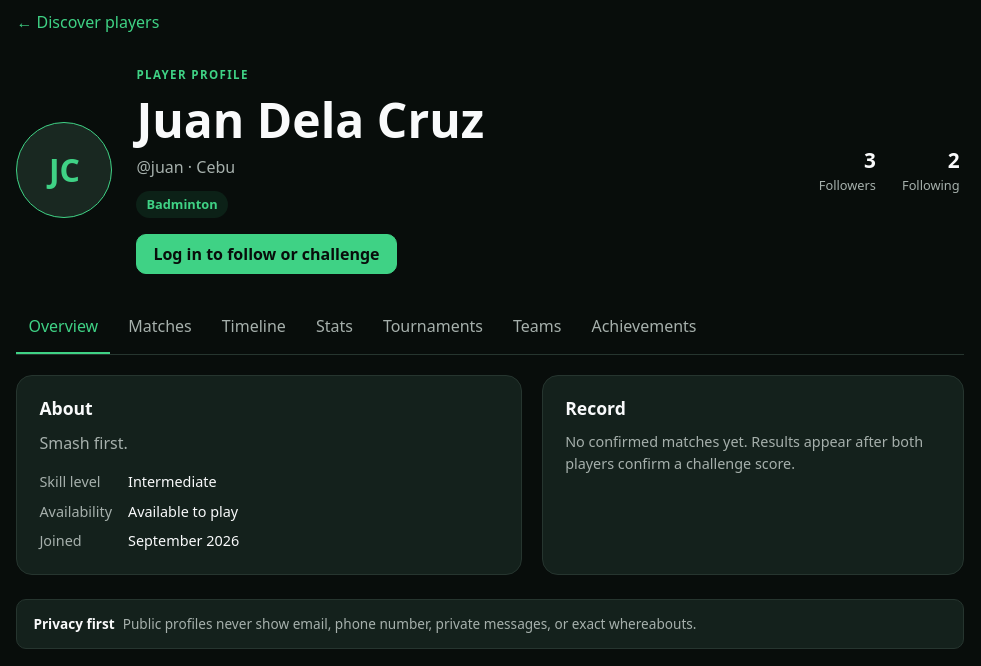
PlayerProfilePage › renders a public profile with tabs and honest empty stats
expect the heading "Juan Dela Cruz" is shown: met, box [136, 87, 484, 152]
expect the text "Smash first." is shown: met, box [39, 432, 128, 454]
Click the button "Stats" at (334, 327), box [304, 300, 365, 354]
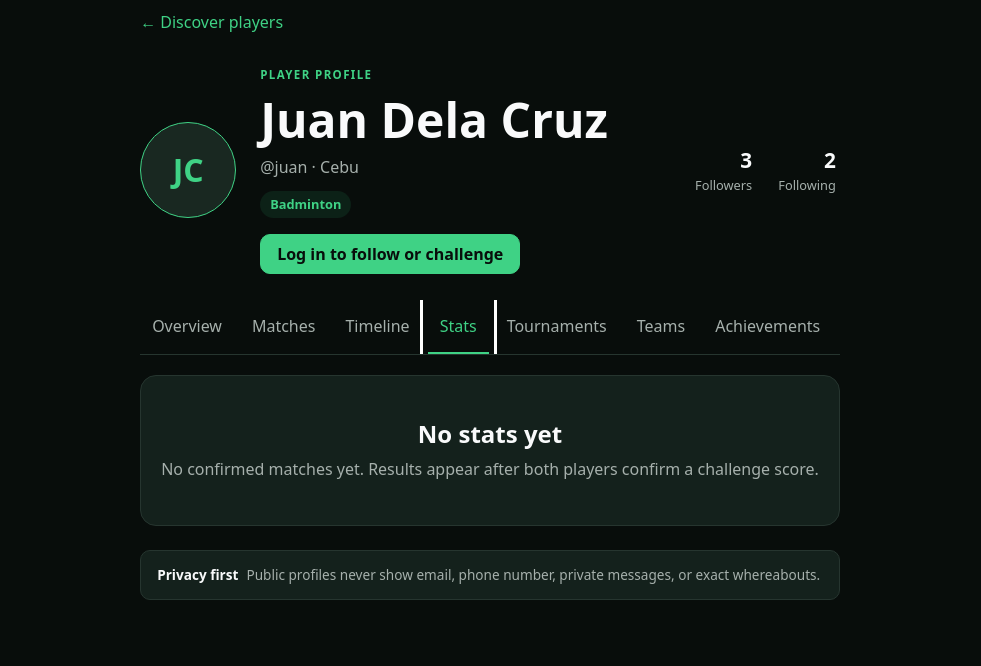
expect the heading "No stats yet" is shown: met, box [418, 417, 562, 450]
